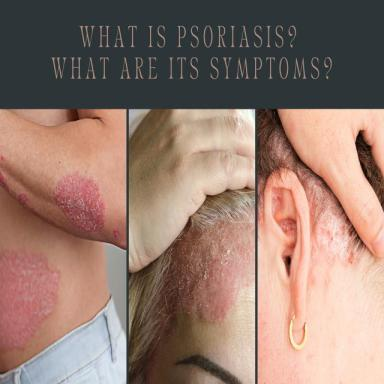Psoriasis: (265, 130, 358, 270), (173, 221, 254, 321), (0, 249, 60, 351), (53, 173, 105, 231), (278, 218, 297, 252), (272, 187, 282, 214), (0, 173, 10, 193), (17, 193, 29, 207), (289, 255, 289, 257)
